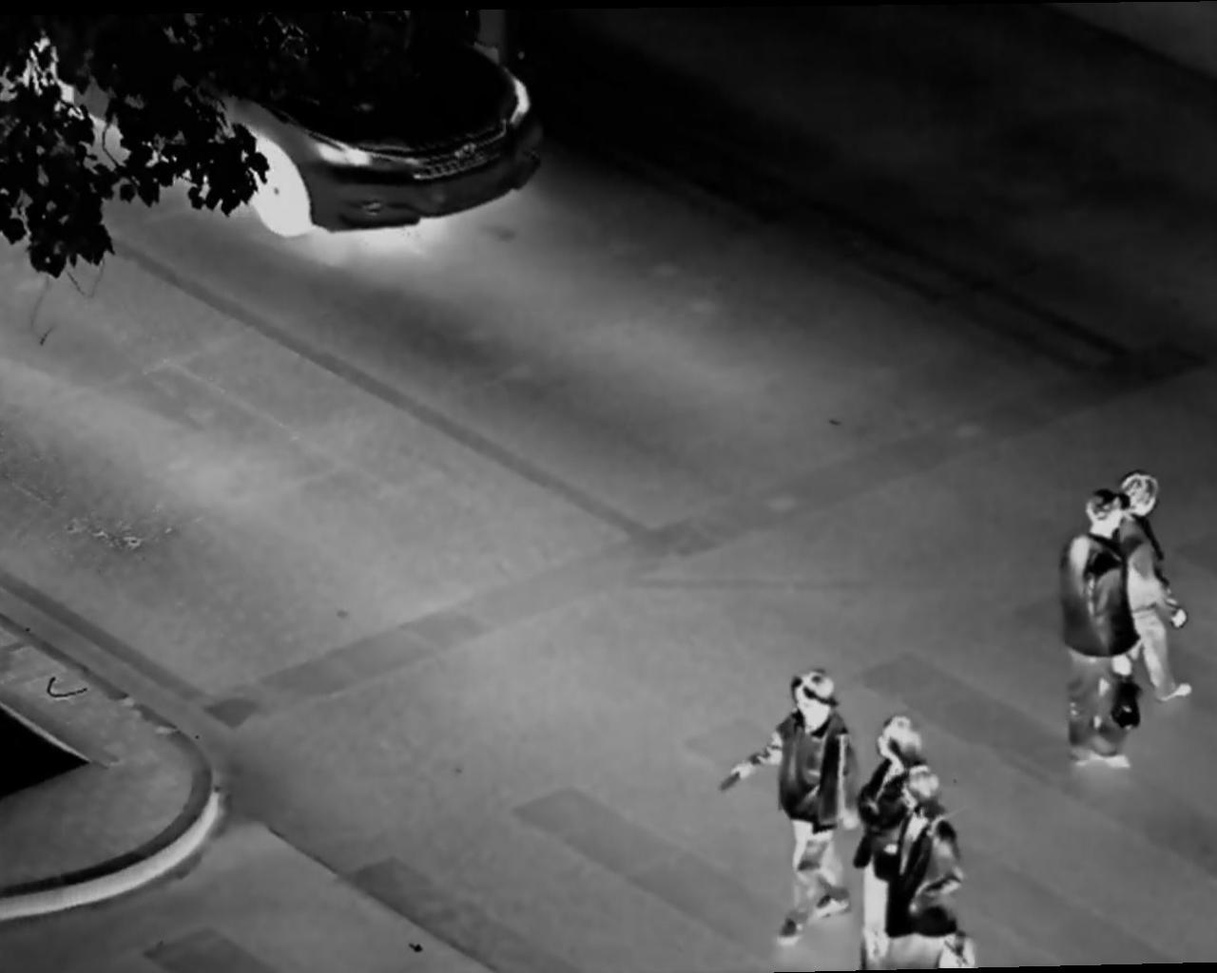person: (742, 663, 849, 927), (895, 760, 973, 973), (1123, 479, 1188, 707), (1062, 488, 1117, 754), (860, 706, 906, 904)
